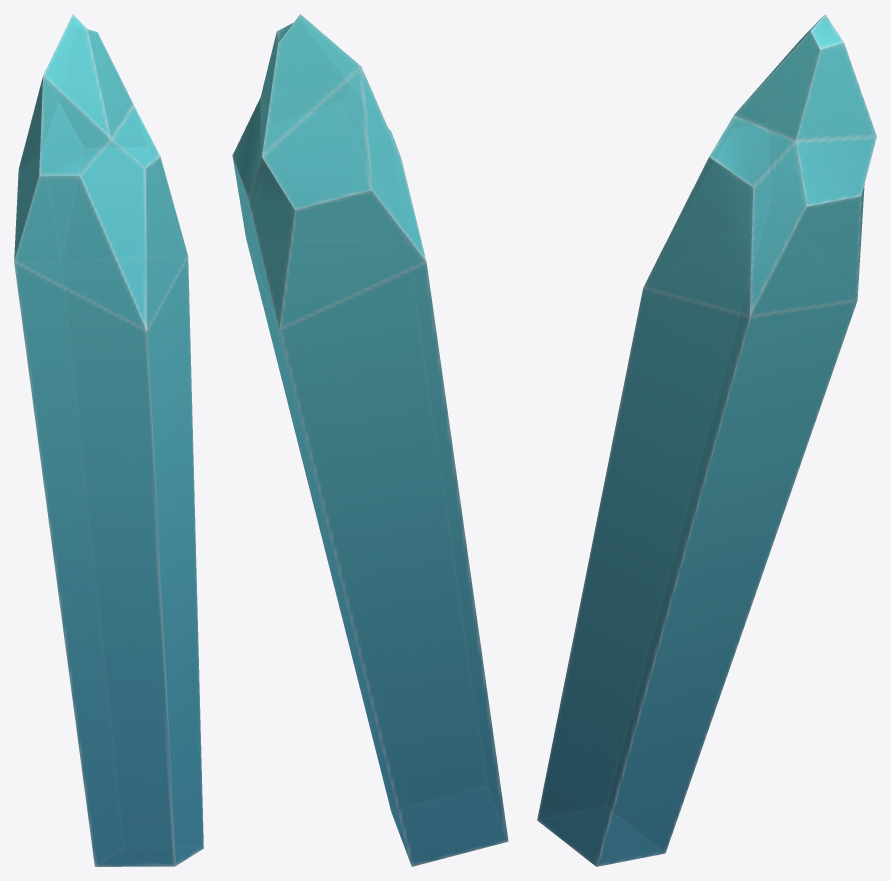
The model's file is Crystal6.fbx.
The picture shows the model from 3 angles, left to right: view 1: azimuth 30°, elevation 25°; view 2: azimuth 150°, elevation 25°; view 3: azimuth 270°, elevation 25°; orthographic projection. The views are drawn at different scales.
Visible parts, largest first — view 1: Crystal_6; view 2: Crystal_6; view 3: Crystal_6.
Boxes of the visible parts, <box> form: Crystal_6: <box>14,14,203,866</box>; Crystal_6: <box>232,14,508,866</box>; Crystal_6: <box>537,14,876,866</box>.
Size of the model in its own units: 1.25 by 5.63 by 2.04.
